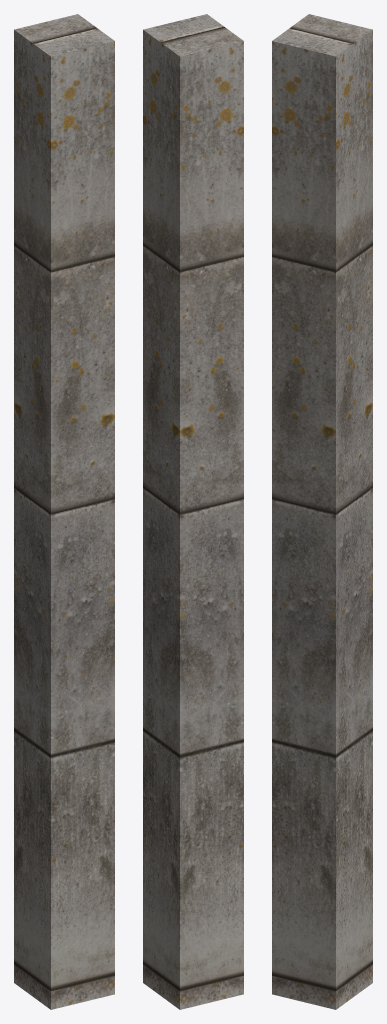
The model's file is Bet_stolb_002-2.fbx.
3 views of the same model, side by side, from view 1: azimuth 30°, elevation 25°; view 2: azimuth 210°, elevation 25°; view 3: azimuth 330°, elevation 25° (orthographic).
Parts seen in each view (by area): view 1: Plane.002_dmg.004; view 2: Plane.002_dmg.004; view 3: Plane.002_dmg.004.
Part boxes in pixels (x1=…): Plane.002_dmg.004: x1=14, y1=14, x2=114, y2=1009; Plane.002_dmg.004: x1=143, y1=14, x2=243, y2=1009; Plane.002_dmg.004: x1=272, y1=14, x2=372, y2=1009.
Bounding box in the file's own units: 40 × 570 × 40.
